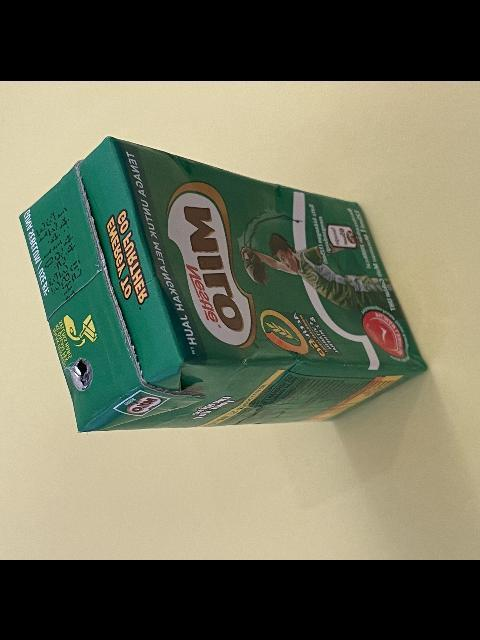drinkpack: (15, 130, 432, 434)
